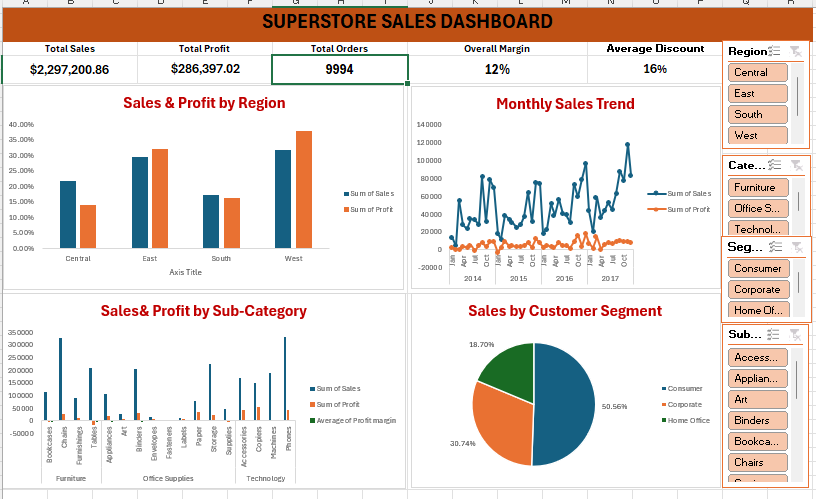

Layout of this report page (visuals, bound fields, positions):
{"tool":"powerbi","page":{"name":"Overview","canvas":[1500,720],"ordinal":0},"visuals":[{"type":"textbox","box":[0,0,464,144],"z":0},{"type":"shape","box":[0,160,208,544],"z":0,"group":"g1"},{"type":"cardVisual","title":"Total Sales","fields":{"Data":["Sample - Superstore.Total Sales"]},"box":[480,0,272,144],"z":1000},{"type":"slicer","fields":{"Values":["Sample - Superstore.Order Date.Variation.Date Hierarchy.Year"]},"box":[0,176,192,64],"z":1000,"group":"g1"},{"type":"cardVisual","title":"Average Discount","fields":{"Data":["Sample - Superstore.Average Discont"]},"box":[1024,0,192,144],"z":2000},{"type":"slicer","fields":{"Values":["Sample - Superstore.Segment"]},"box":[0,256,192,80],"z":2000,"group":"g1"},{"type":"cardVisual","title":"Total Profit","fields":{"Data":["Sample - Superstore.Total Profit"]},"box":[760,0,256,144],"z":3000},{"type":"slicer","fields":{"Values":["Sample - Superstore.Sub-Category"]},"box":[0,352,192,80],"z":3000,"group":"g1"},{"type":"cardVisual","title":"Total Orders","fields":{"Data":["Sample - Superstore.Total Orders"]},"box":[1224,0,176,144],"z":4000},{"type":"slicer","fields":{"Values":["Sample - Superstore.Category"]},"box":[0,448,192,80],"z":4000,"group":"g1"},{"type":"barChart","fields":{"Y":["Sample - Superstore.Total Sales","Sample - Superstore.Total Profit"],"Category":["Sample - Superstore.Region"]},"box":[224,160,608,256],"z":5000},{"type":"slicer","fields":{"Values":["Sample - Superstore.Region"]},"box":[0,544,192,80],"z":5000,"group":"g1"},{"type":"lineChart","fields":{"Category":["Sample - Superstore.Order Date.Variation.Date Hierarchy.Year","Sample - Superstore.Order Date.Variation.Date Hierarchy.Quarter","Sample - Superstore.Order Date.Variation.Date Hierarchy.Month","Sample - Superstore.Order Date.Variation.Date Hierarchy.Day"],"Y":["Sample - Superstore.Total Sales","Sample - Superstore.Total Profit"]},"box":[844,160,656,256],"z":6000},{"type":"map","fields":{"Category":["Sample - Superstore.City"],"Size":["Sample - Superstore.Total Sales"]},"box":[224,432,736,288],"z":7000},{"type":"actionButton","box":[1404,0,96,144],"z":7009,"group":"g1"},{"type":"group","id":"g1","title":"Group 1","box":[0,0,1500,704],"z":8000},{"type":"pieChart","fields":{"Category":["Sample - Superstore.Segment"],"Y":["Sample - Superstore.Total Sales"]},"box":[972,432,528,288],"z":9000}]}

Visuals, with their boxes on the page's 1500x720 design canvas (x1, y1, x2, y2). These are canvas units, not pixel positions in the 816x499 screenshot, which may show the page scaled, cropped or inside an application window:
textbox: (0, 0, 464, 144)
shape: (0, 160, 208, 704)
"Total Sales" cardVisual: (480, 0, 752, 144)
slicer - Sample - Superstore.Order Date.Variation.Date Hierarchy.Year: (0, 176, 192, 240)
"Average Discount" cardVisual: (1024, 0, 1216, 144)
slicer - Sample - Superstore.Segment: (0, 256, 192, 336)
"Total Profit" cardVisual: (760, 0, 1016, 144)
slicer - Sample - Superstore.Sub-Category: (0, 352, 192, 432)
"Total Orders" cardVisual: (1224, 0, 1400, 144)
slicer - Sample - Superstore.Category: (0, 448, 192, 528)
barChart - Sample - Superstore.Total Sales x Sample - Superstore.Total Profit: (224, 160, 832, 416)
slicer - Sample - Superstore.Region: (0, 544, 192, 624)
lineChart - Sample - Superstore.Order Date.Variation.Date Hierarchy.Year x Sample - Superstore.Order Date.Variation.Date Hierarchy.Quarter: (844, 160, 1500, 416)
map - Sample - Superstore.City x Sample - Superstore.Total Sales: (224, 432, 960, 720)
actionButton: (1404, 0, 1500, 144)
"Group 1" group: (0, 0, 1500, 704)
pieChart - Sample - Superstore.Segment x Sample - Superstore.Total Sales: (972, 432, 1500, 720)
